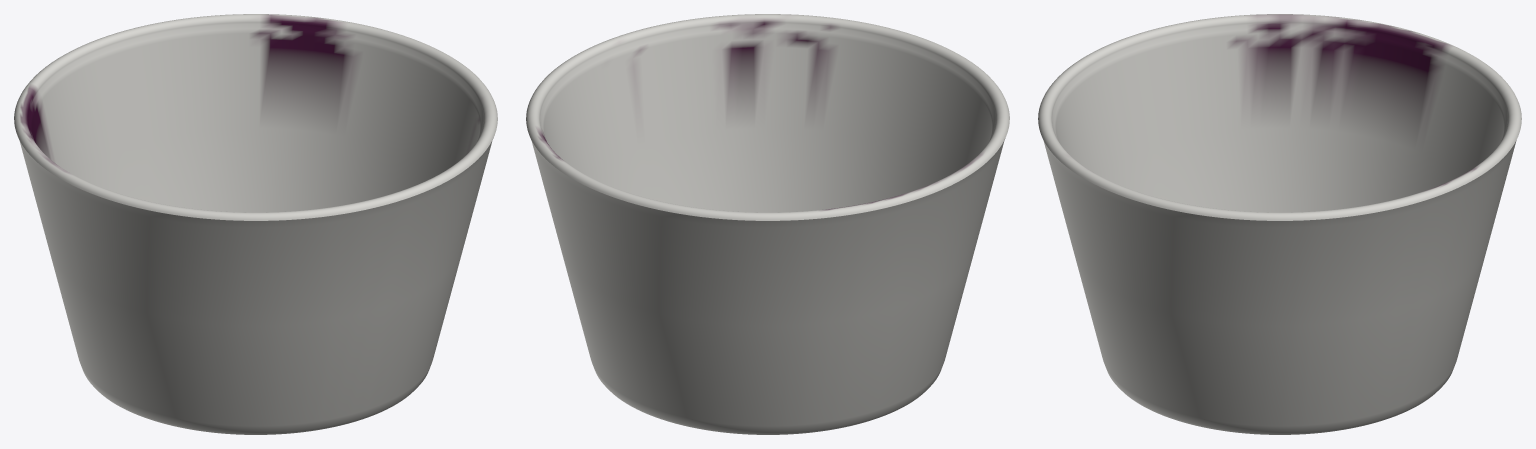
File: container-isopor-gg.glb
3 renders of one model, left to right at view 1: azimuth 30°, elevation 25°; view 2: azimuth 150°, elevation 25°; view 3: azimuth 270°, elevation 25°, orthographic.
Parts seen in each view (by area): view 1: container-isopor-gg; view 2: container-isopor-gg; view 3: container-isopor-gg.
Boxes of the visible parts, x1,y1,x2,y2 form: container-isopor-gg: [14, 14, 497, 434]; container-isopor-gg: [526, 14, 1009, 434]; container-isopor-gg: [1038, 14, 1521, 434].
Bounding box in the file's own units: 0.1518 × 0.086 × 0.1518.
